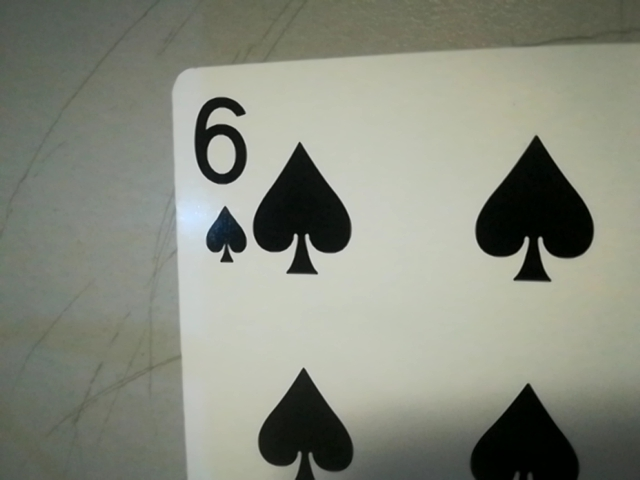ht 6: (184, 86, 255, 272)
